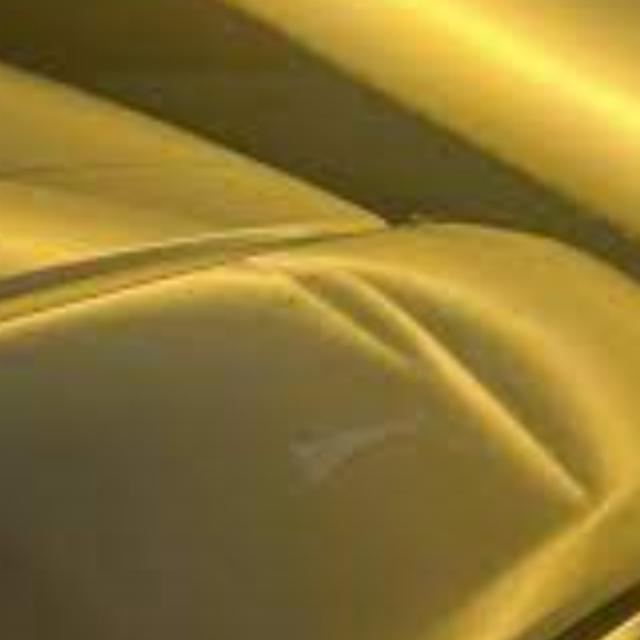dents: (265, 249, 608, 541)
